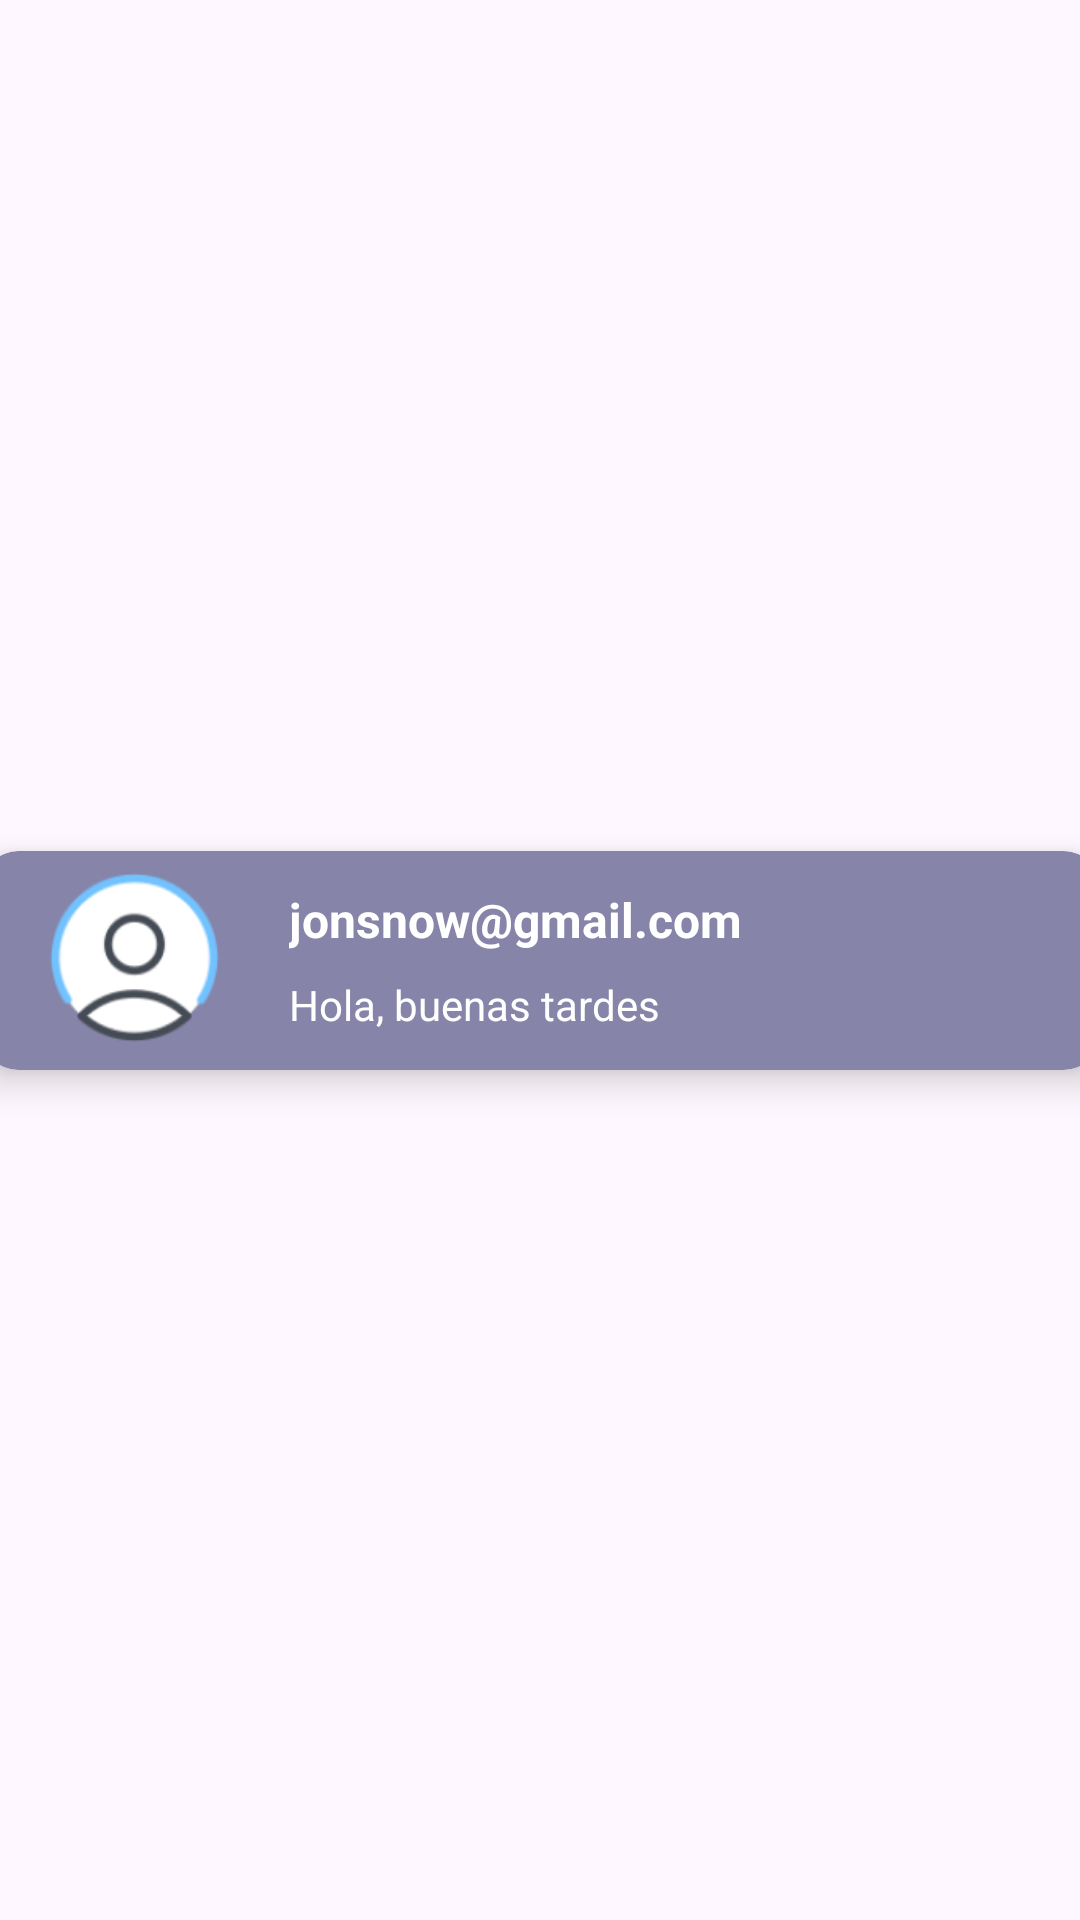

Icons on this 1080px×1920px Android screen, each with the point to tap as (x,y):
user: (134,957)
